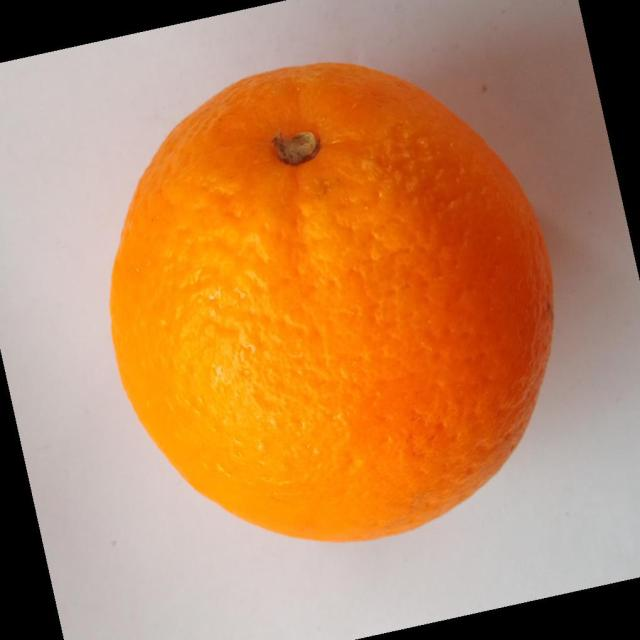fresh orange: (108, 60, 555, 543)
